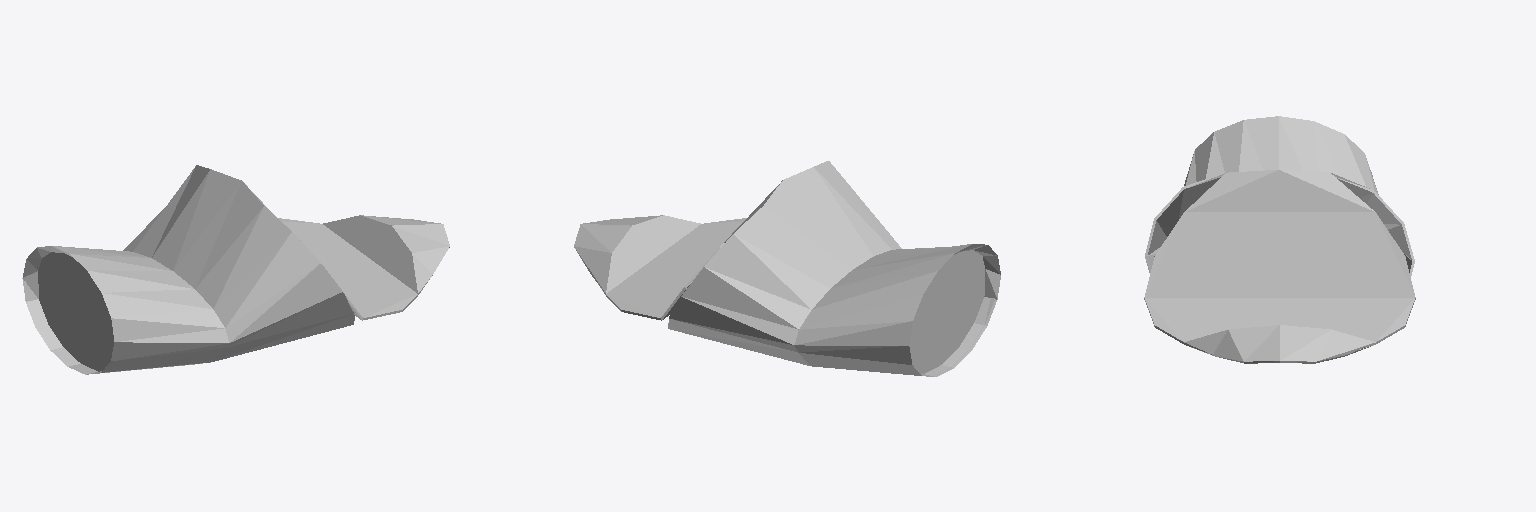
The model's file is Ramen2.obj.
The picture shows the model from 3 angles: view 1: azimuth 30°, elevation 25°; view 2: azimuth 150°, elevation 25°; view 3: azimuth 270°, elevation 25°; orthographic projection.
Parts seen in each view (by area): view 1: Ramen.001; view 2: Ramen.001; view 3: Ramen.001.
Part boxes in pixels (x1,y1,x2,y2): Ramen.001: (22,165,449,374); Ramen.001: (574,161,1000,376); Ramen.001: (1144,116,1415,363).
Size of the model in its own units: 4.69 by 1.89 by 2.94.